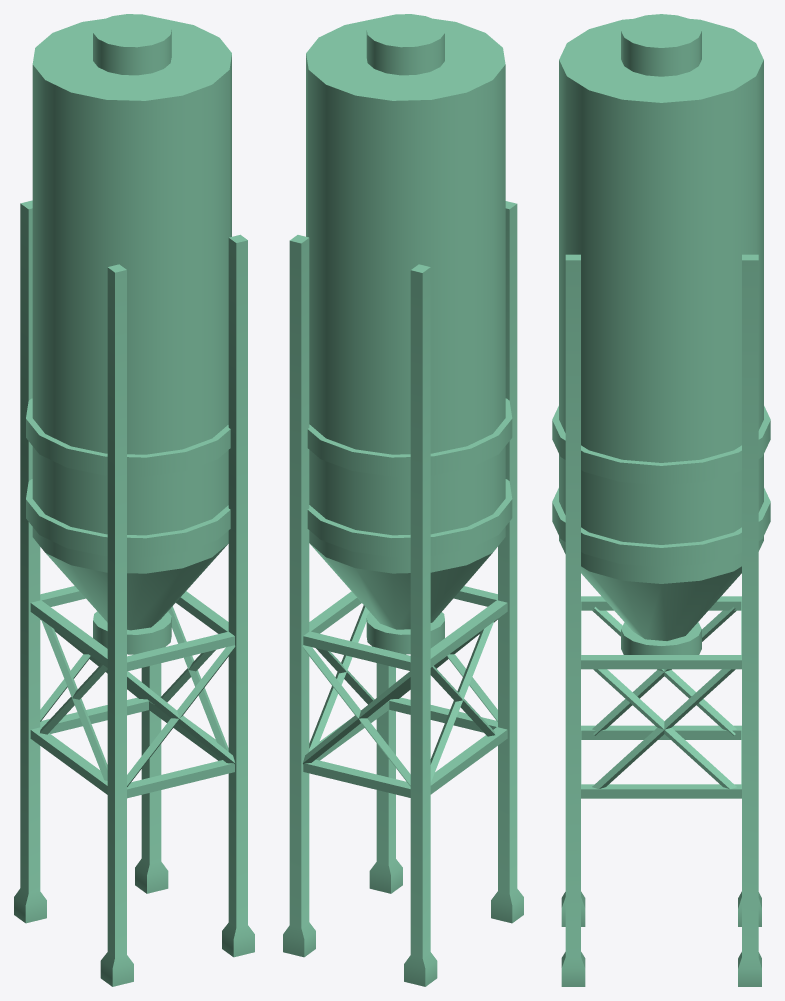
The model's file is Reservoir_C.fbx.
The picture shows the model from 3 angles, left to right: view 1: azimuth 30°, elevation 25°; view 2: azimuth 150°, elevation 25°; view 3: azimuth 270°, elevation 25°; orthographic projection.
Visible parts, largest first — view 1: Reservoir_C; view 2: Reservoir_C; view 3: Reservoir_C.
Boxes of the visible parts, x1,y1,x2,y2 form: Reservoir_C: (14,14,254,986); Reservoir_C: (283,14,523,986); Reservoir_C: (552,14,770,986).
Bounding box in the file's own units: 327 × 1517 × 327.
